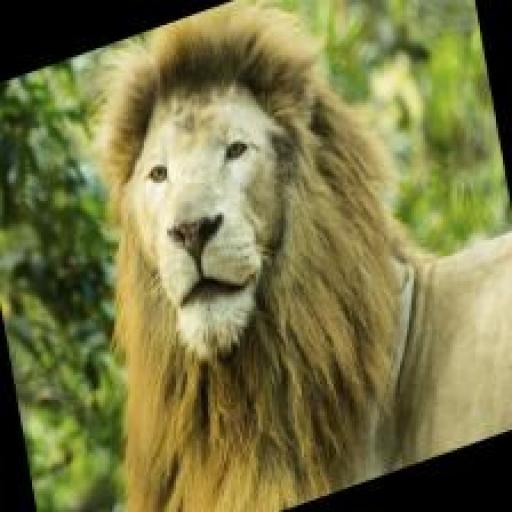lion: (36, 0, 512, 511)
